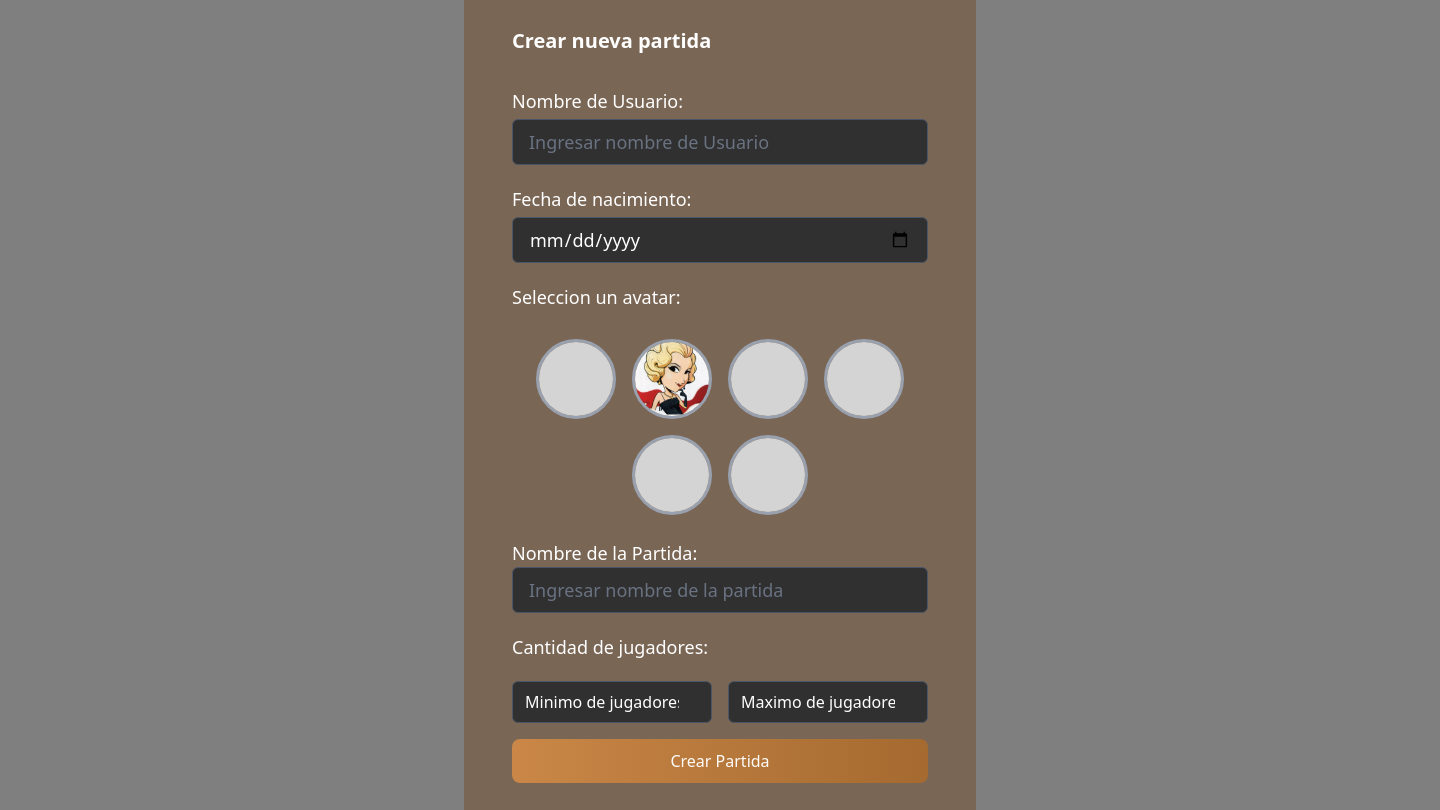
it: CreateFormGame - funcionalidades de los elementos › no permite escribir más de 40 caracteres en el Nombre de la Partida
The width and height of the screenshot is (1440, 810).
Type "ABCDEFGHIJKLMNOPQRSTUVWXYZABCDEFGHIJKLMNOPQRSTUVWXYZ" into the field labelled "Nombre de la Partida:".
click(720, 590); type("ABCDEFGHIJKLMNOPQRSTUVWXYZABCDEFGHIJKLMNOPQRSTUVWXYZ")  # box [512,567,928,613]
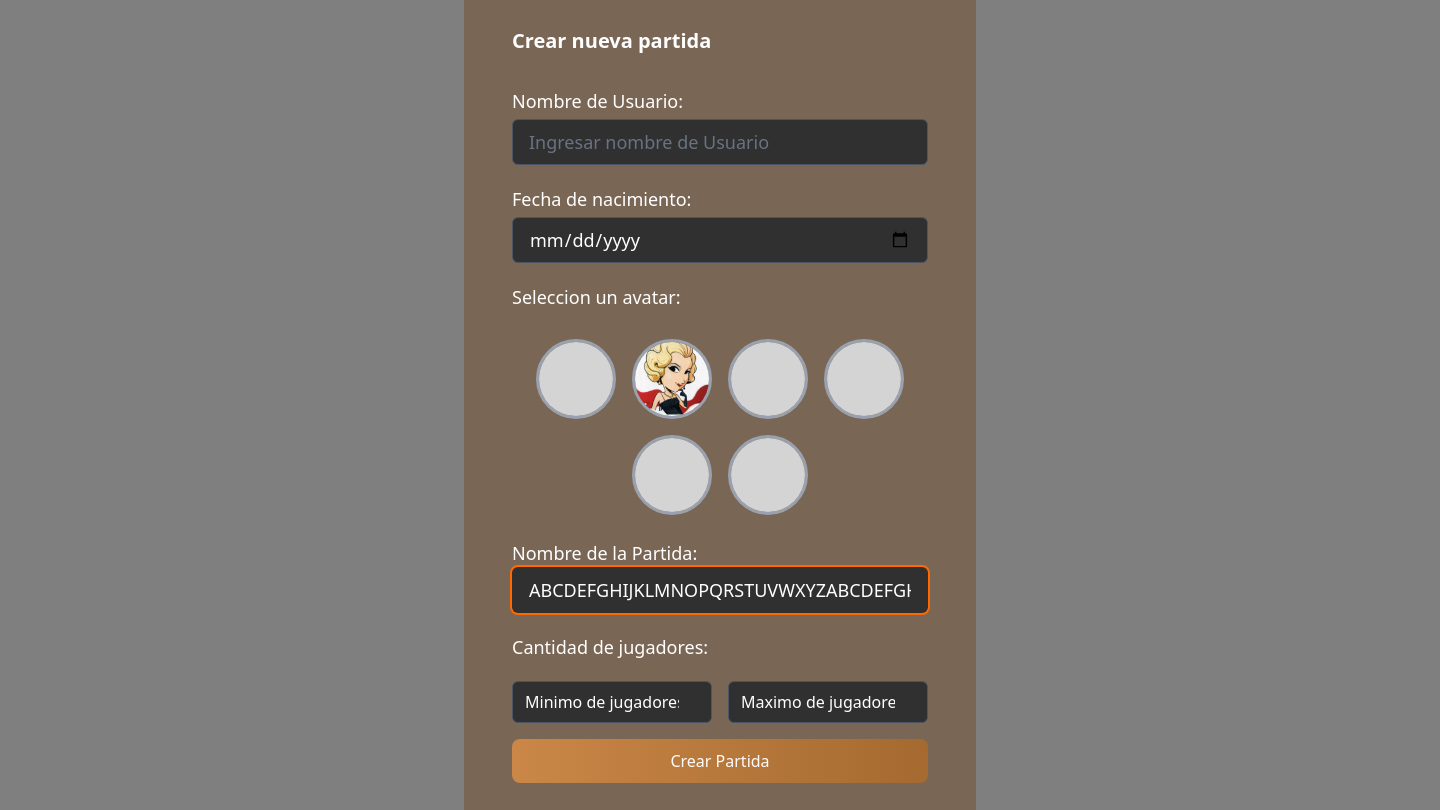
Now the field labelled "Nombre de la Partida:" holds "ABCDEFGHIJKLMNOPQRSTUVWXYZABCDEFGHIJKLMN", box [512,567,928,613]
